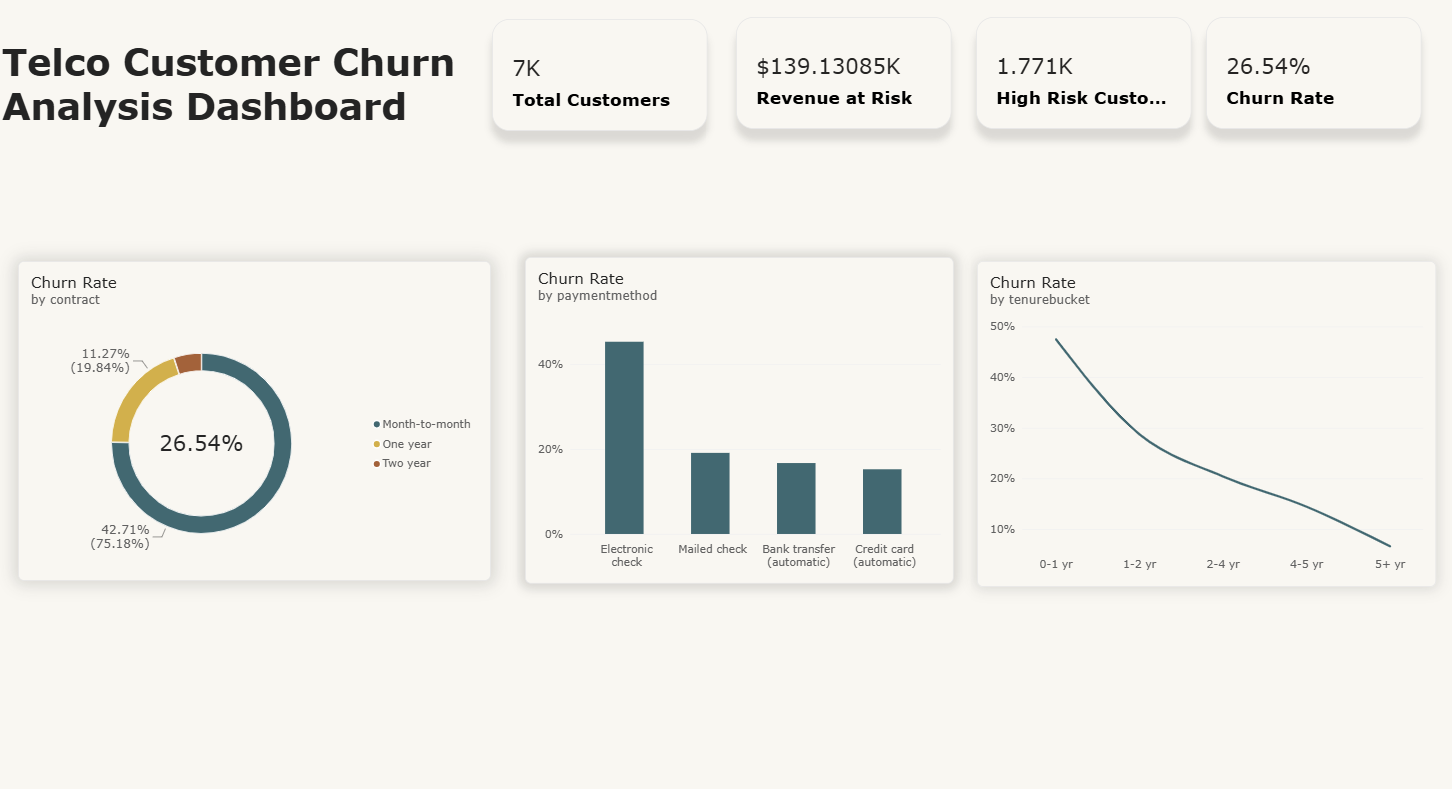

Layout of this report page (visuals, bound fields, positions):
{"tool":"powerbi","page":{"name":"Page 1","canvas":[1920,1080],"ordinal":0},"visuals":[{"type":"cardVisual","title":"Total Customers","fields":{"Data":["public customers_full.Total Customers"]},"box":[655.1,33.6,283.3,146.7],"z":0},{"type":"donutChart","fields":{"Category":["public customers_full.contract"],"Y":["public customers_full.Churn Rate"]},"box":[33.3,351.7,621.2,420],"z":1000},{"type":"clusteredColumnChart","fields":{"Category":["public customers_full.paymentmethod"],"Y":["public customers_full.Churn Rate"]},"box":[698.3,346.7,562.5,428.8],"z":2000},{"type":"lineChart","fields":{"Category":["public customers_full.tenurebucket"],"Y":["public customers_full.Churn Rate"]},"box":[1291.7,351.7,603.3,428.3],"z":3000},{"type":"textbox","box":[11.7,60,613.3,181.7],"z":4000},{"type":"cardVisual","title":"Total Customers","fields":{"Data":["public customers_full.Revenue at Risk"]},"box":[976,32,283.3,146.7],"z":7001},{"type":"cardVisual","title":"Total Customers","fields":{"Data":["public customers_full.High Risk Customers"]},"box":[1291.2,32.1,283.3,146.7],"z":7002},{"type":"cardVisual","title":"Total Customers","fields":{"Data":["public customers_full.Total Customers","public customers_full.Churn Rate"]},"box":[1610.7,32.1,283.3,146.7],"z":7003}]}

Visuals, with their boxes on the page's 1920x1080 design canvas (x1, y1, x2, y2). These are canvas units, not pixel positions in the 1452x789 screenshot, which may show the page scaled, cropped or inside an application window:
"Total Customers" cardVisual: <box>655,34,938,180</box>
donutChart - public customers_full.contract x public customers_full.Churn Rate: <box>33,352,654,772</box>
clusteredColumnChart - public customers_full.paymentmethod x public customers_full.Churn Rate: <box>698,347,1261,776</box>
lineChart - public customers_full.tenurebucket x public customers_full.Churn Rate: <box>1292,352,1895,780</box>
textbox: <box>12,60,625,242</box>
"Total Customers" cardVisual: <box>976,32,1259,179</box>
"Total Customers" cardVisual: <box>1291,32,1574,179</box>
"Total Customers" cardVisual: <box>1611,32,1894,179</box>
